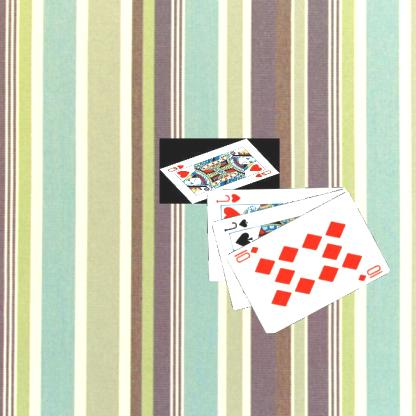10D: (232, 243, 262, 264), (357, 262, 386, 282)
JH: (215, 190, 244, 204)
JS: (223, 216, 251, 233)
